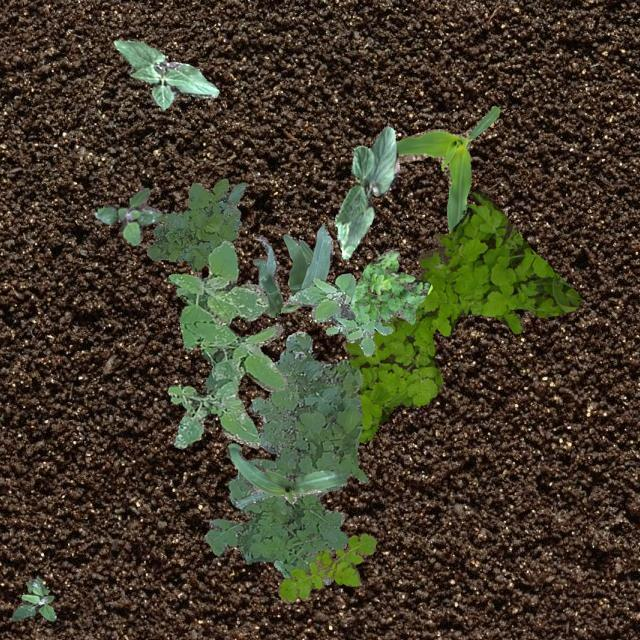crop: (394, 105, 500, 232), (334, 125, 398, 258), (226, 442, 346, 507), (252, 222, 332, 316), (112, 38, 218, 108)
weed: (342, 188, 580, 440), (204, 331, 368, 584), (166, 240, 286, 448), (146, 178, 247, 270), (286, 272, 392, 356), (278, 532, 374, 602), (348, 248, 432, 324), (94, 187, 162, 244), (10, 576, 54, 620), (272, 558, 290, 578)
